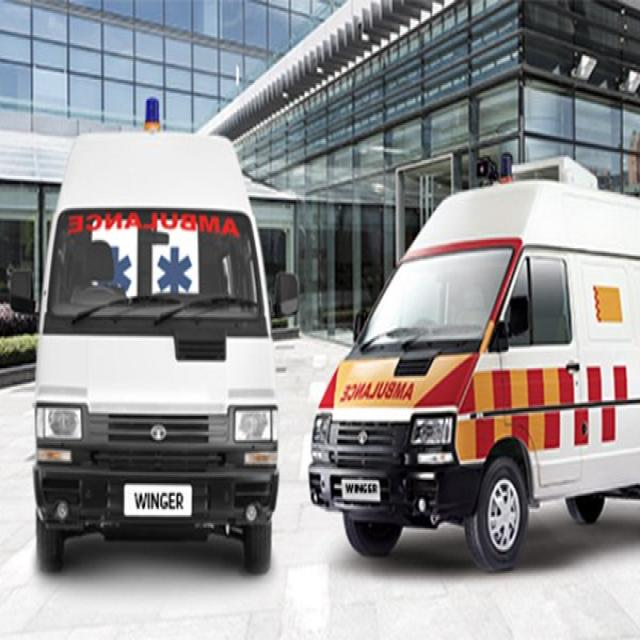emergency: (311, 182, 640, 571), (34, 131, 279, 573)
